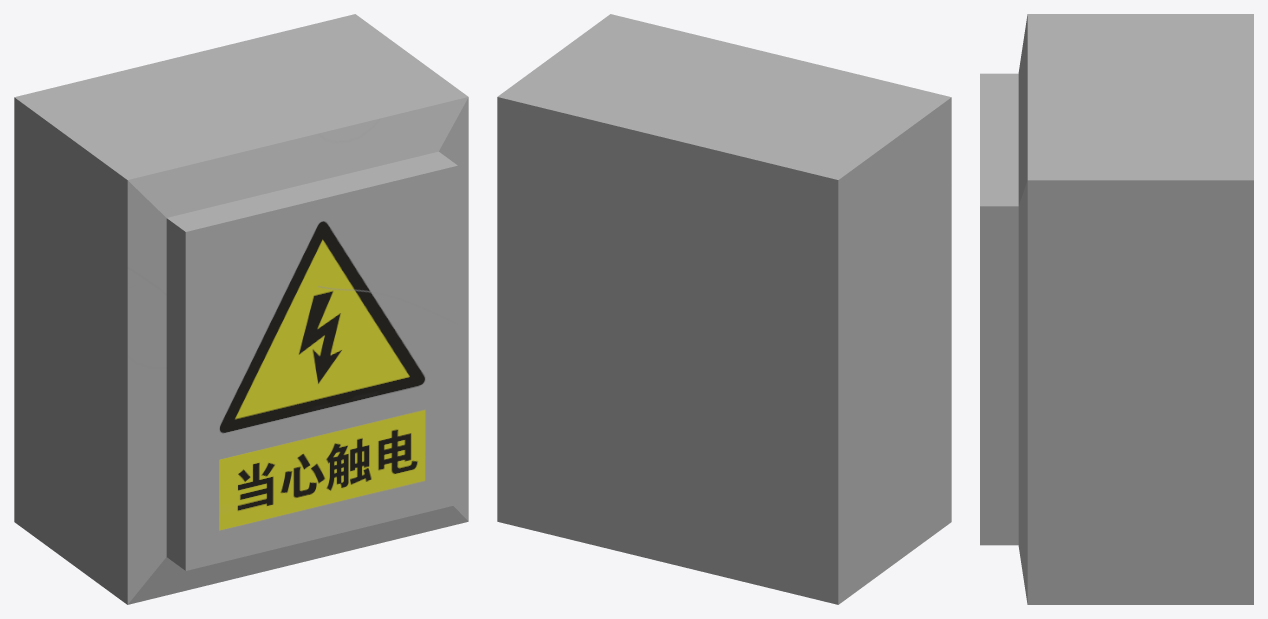
The model's file is Dianxiang.fbx.
3 views of the same model, side by side, from view 1: azimuth 30°, elevation 25°; view 2: azimuth 150°, elevation 25°; view 3: azimuth 270°, elevation 25° (orthographic).
Parts seen in each view (by area): view 1: kongtiao_lesson01_GP3:dianxiang; view 2: kongtiao_lesson01_GP3:dianxiang; view 3: kongtiao_lesson01_GP3:dianxiang.
Boxes of the visible parts, x1,y1,x2,y2 form: kongtiao_lesson01_GP3:dianxiang: (14,14,468,604); kongtiao_lesson01_GP3:dianxiang: (497,14,951,604); kongtiao_lesson01_GP3:dianxiang: (980,14,1253,604).
Size of the model in its own units: 0.8778 by 1.04 by 0.6108.
Materials: 1 (1 with a texture image).
